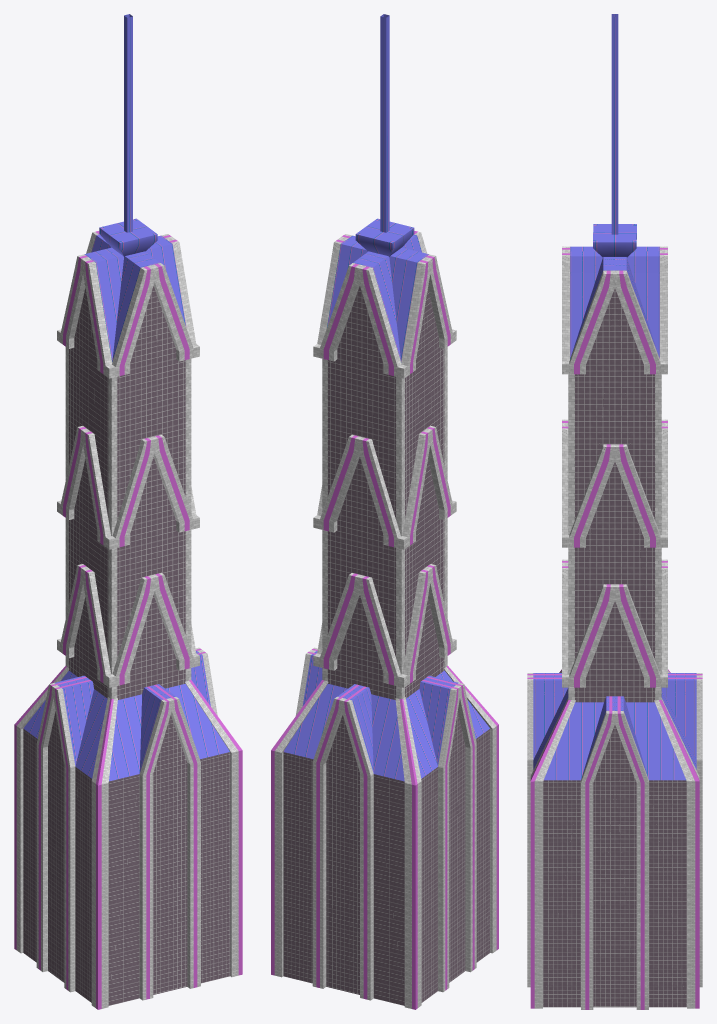
Rendered from SM_Building_04.fbx.
The picture shows the model from 3 angles, left to right: view 1: azimuth 30°, elevation 25°; view 2: azimuth 150°, elevation 25°; view 3: azimuth 270°, elevation 25°; orthographic projection.
Parts seen in each view (by area): view 1: SM_Building_04; view 2: SM_Building_04; view 3: SM_Building_04.
Part boxes in pixels (x1,y1,x2,y2): SM_Building_04: (14,14,242,1009); SM_Building_04: (271,14,498,1009); SM_Building_04: (527,14,702,1009).
Bounding box in the file's own units: 2435 × 2435 × 14682.
